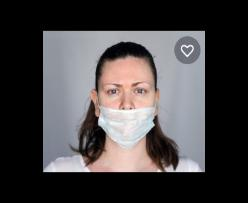mask_weared_incorrect: (102, 77, 157, 144)
